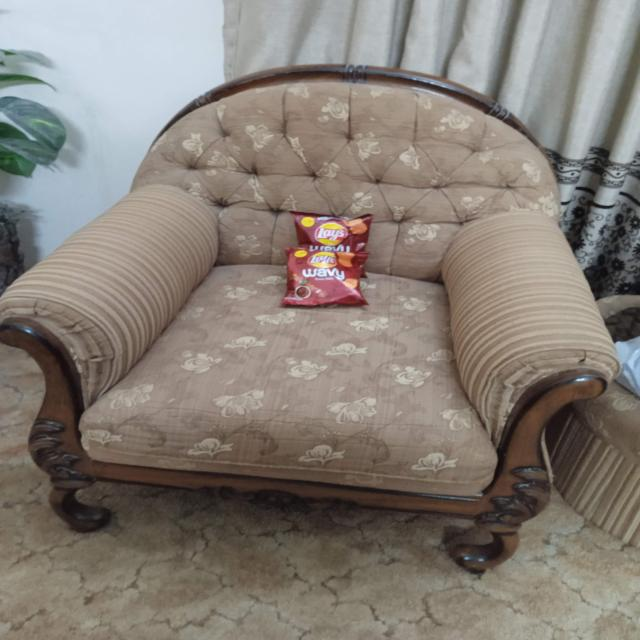Plastic: (289, 249, 365, 305), (296, 210, 370, 250)
